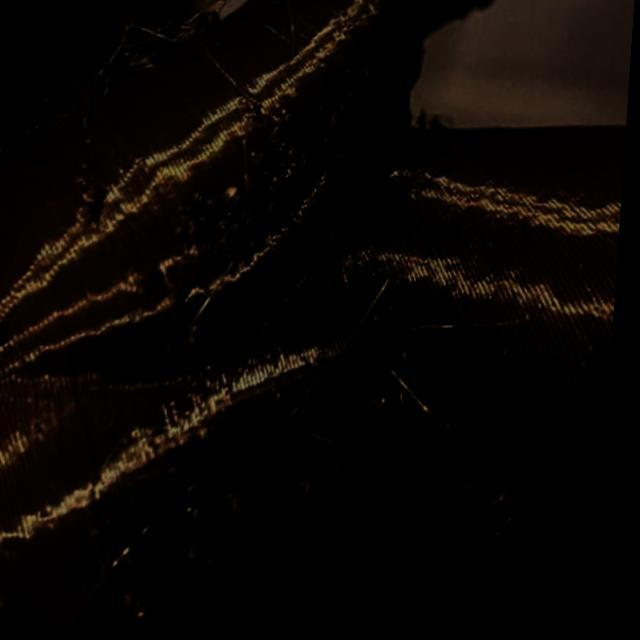stringing: (99, 23, 164, 87), (26, 76, 94, 119), (159, 16, 205, 53)
zits: (90, 514, 134, 551), (462, 492, 496, 534), (268, 115, 304, 148), (128, 590, 162, 624), (118, 547, 153, 580), (188, 347, 225, 378), (134, 269, 168, 302), (372, 399, 412, 427), (583, 350, 615, 385), (171, 284, 204, 316), (185, 324, 218, 356), (212, 230, 244, 262), (236, 214, 265, 246), (80, 182, 109, 212), (265, 178, 294, 208), (184, 222, 210, 255), (316, 139, 347, 166), (190, 542, 217, 572), (216, 187, 245, 214), (337, 465, 364, 494), (74, 206, 102, 233), (0, 588, 22, 622), (204, 508, 228, 538), (232, 495, 256, 523), (264, 207, 290, 232), (301, 487, 320, 511), (212, 552, 232, 574), (0, 322, 15, 351)
